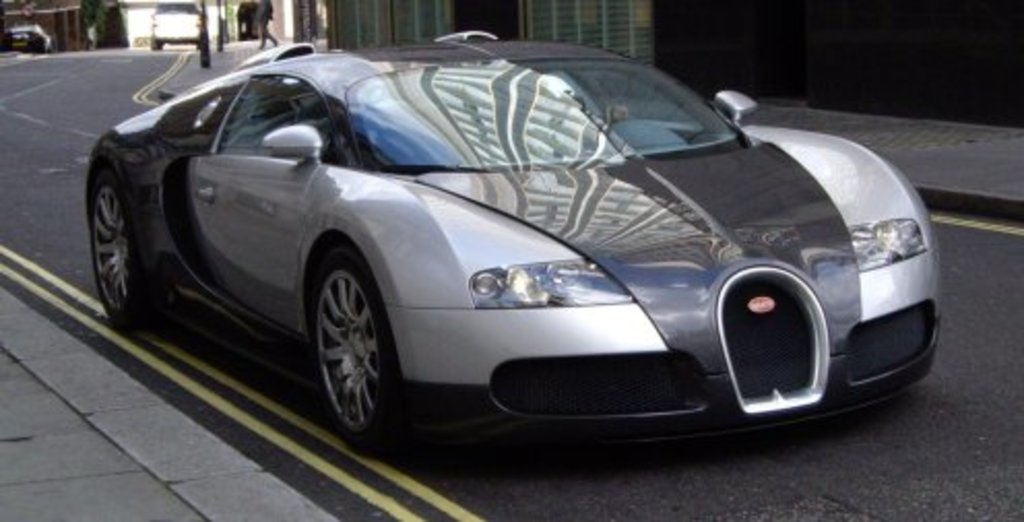Car: (78, 24, 943, 470), (0, 20, 55, 51)
